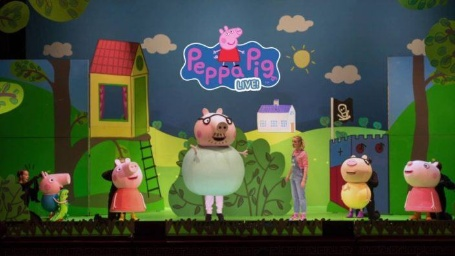Peppa: (109, 155, 150, 224), (402, 159, 443, 222)
